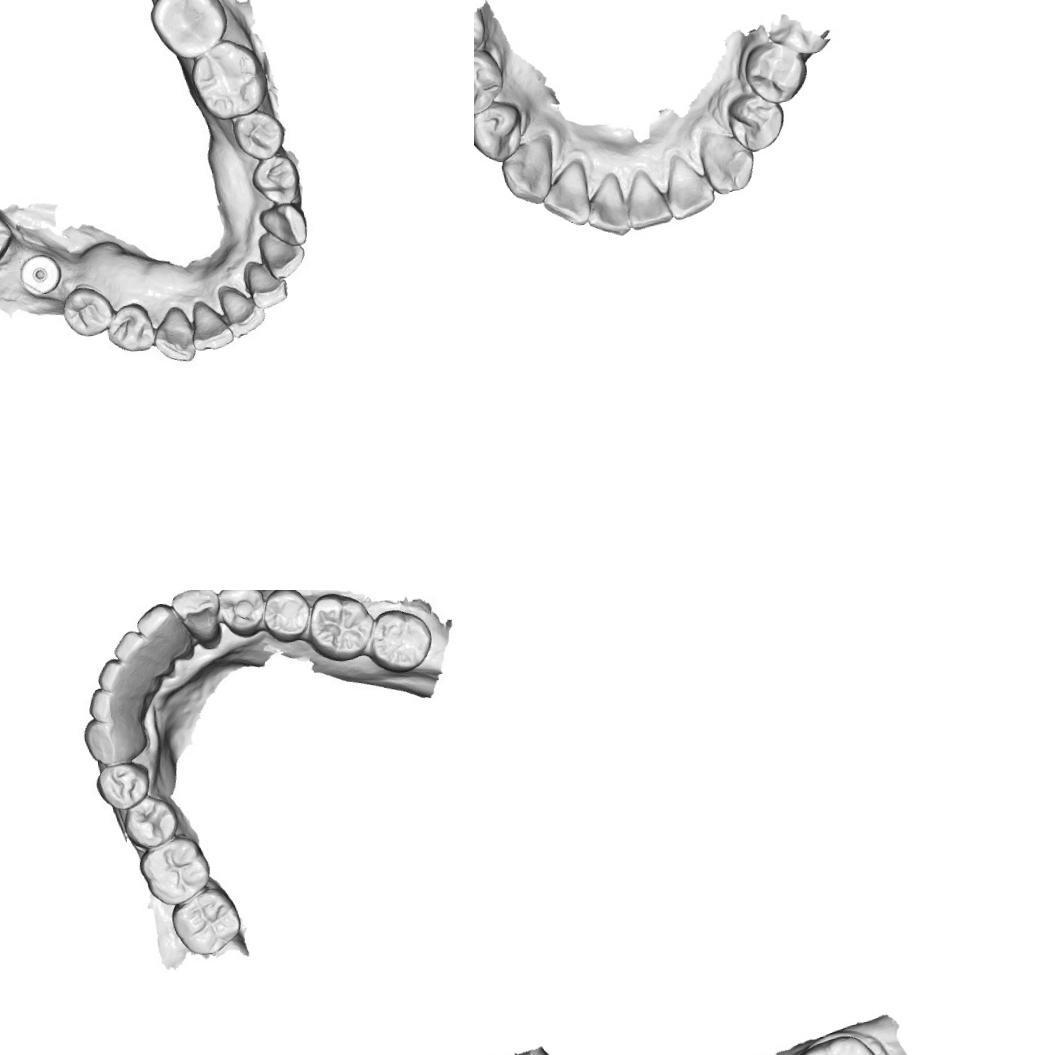canine: (496, 134, 560, 209), (694, 125, 758, 196), (81, 712, 154, 768), (170, 590, 222, 653), (152, 299, 200, 364), (260, 202, 310, 245)
implant: (17, 254, 63, 297)
incisor: (663, 154, 718, 222), (139, 603, 198, 665), (538, 166, 594, 229), (114, 628, 175, 685), (98, 657, 166, 708), (622, 169, 674, 231), (582, 178, 631, 239), (88, 686, 153, 728), (257, 231, 304, 279), (216, 284, 262, 333), (190, 299, 230, 348), (243, 262, 286, 307)
molar: (166, 884, 244, 962), (190, 40, 265, 118), (363, 604, 437, 674), (136, 840, 210, 909), (307, 590, 373, 660), (147, 0, 224, 56), (794, 1028, 888, 1055)
premolar: (739, 34, 809, 108), (720, 88, 790, 157), (474, 99, 528, 166), (118, 796, 179, 853), (94, 758, 152, 810), (263, 590, 312, 644), (59, 288, 109, 340), (216, 590, 270, 638), (252, 154, 301, 204), (474, 46, 508, 118), (106, 305, 152, 352), (236, 112, 282, 154)
